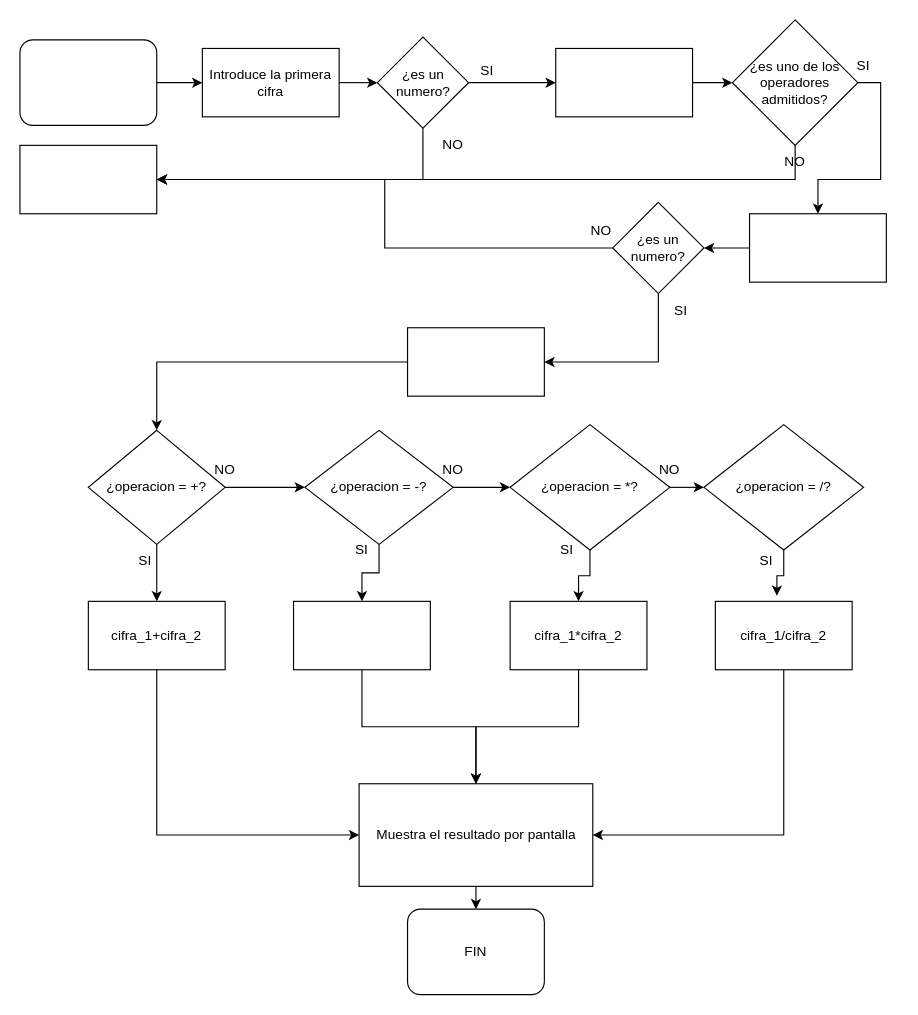
Image size: 918x1015. Some labels were removed from this diagram. Each missing label, with the centre of its shape:
cifra_1-cifra_2: point (361, 635)
Error: point (88, 179)
Inicio: point (88, 82)
Introduce el tipo de operacion (operacion) a realizar: point (624, 82)
Introduce la segunda cifra: point (817, 247)
Switch: point (475, 361)
